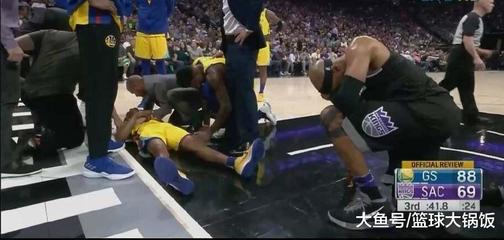fall: (110, 104, 273, 193)
